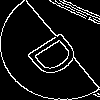D: (25, 25, 91, 81)
